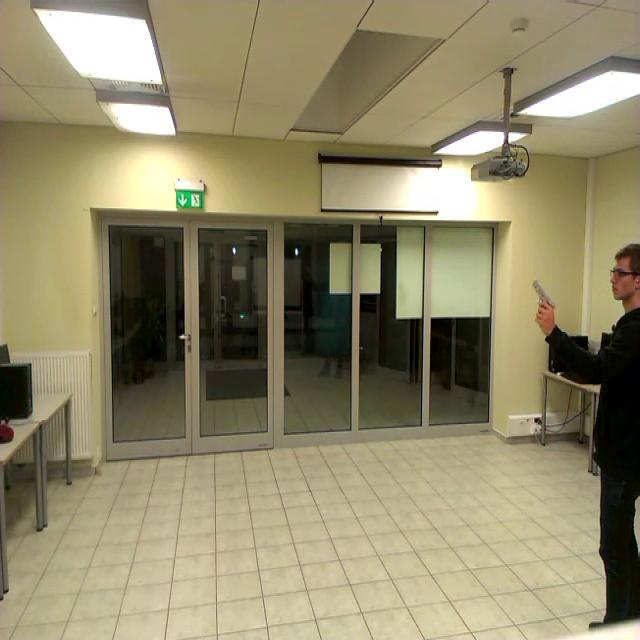Gun: (533, 278, 556, 316)
